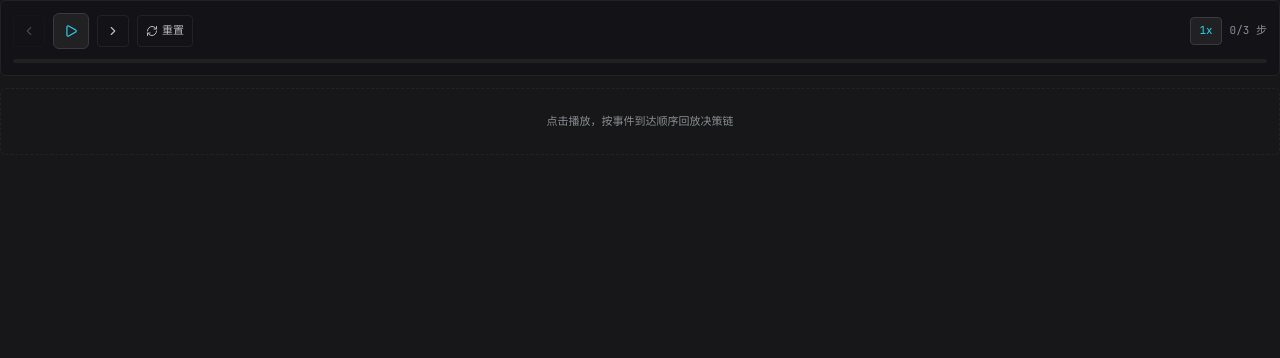
Test: StepPlayer › 回流轮次在 correct 步骤上体现
Click the button named "下一步".
click(113, 31)  # box [97,15,129,47]
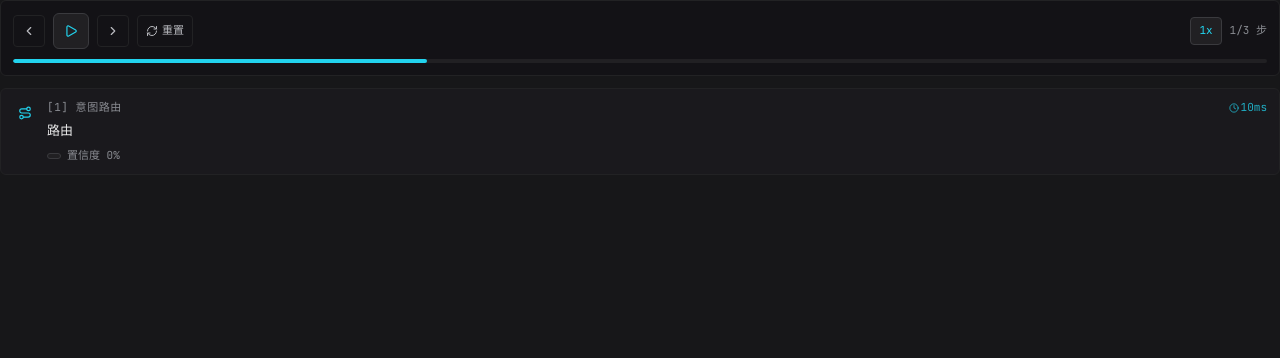
Click the button named "下一步".
click(113, 31)  # box [97,15,129,47]
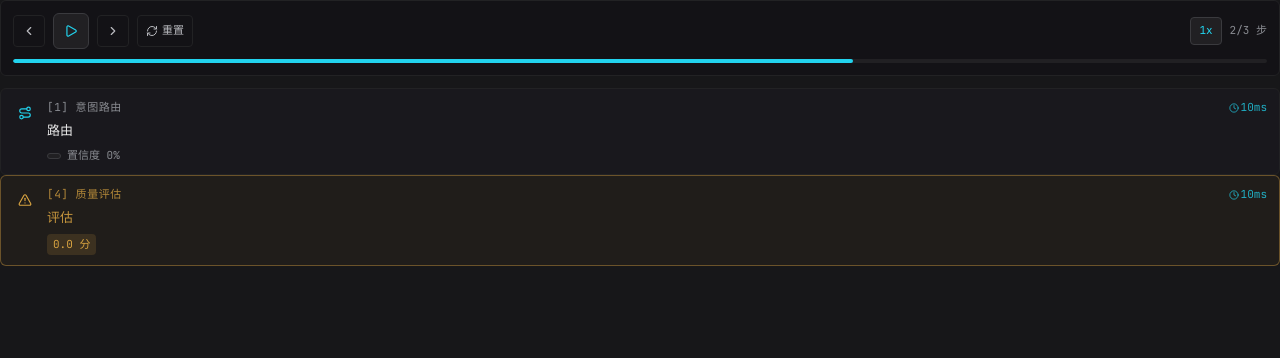
Click the button named "下一步".
click(113, 31)  # box [97,15,129,47]
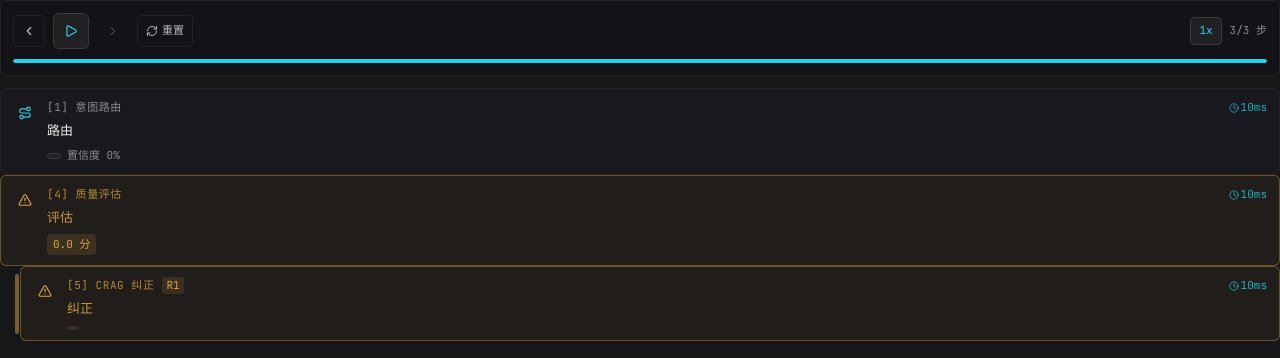
Expected: the text "R1" is shown, [162,277,184,294]
